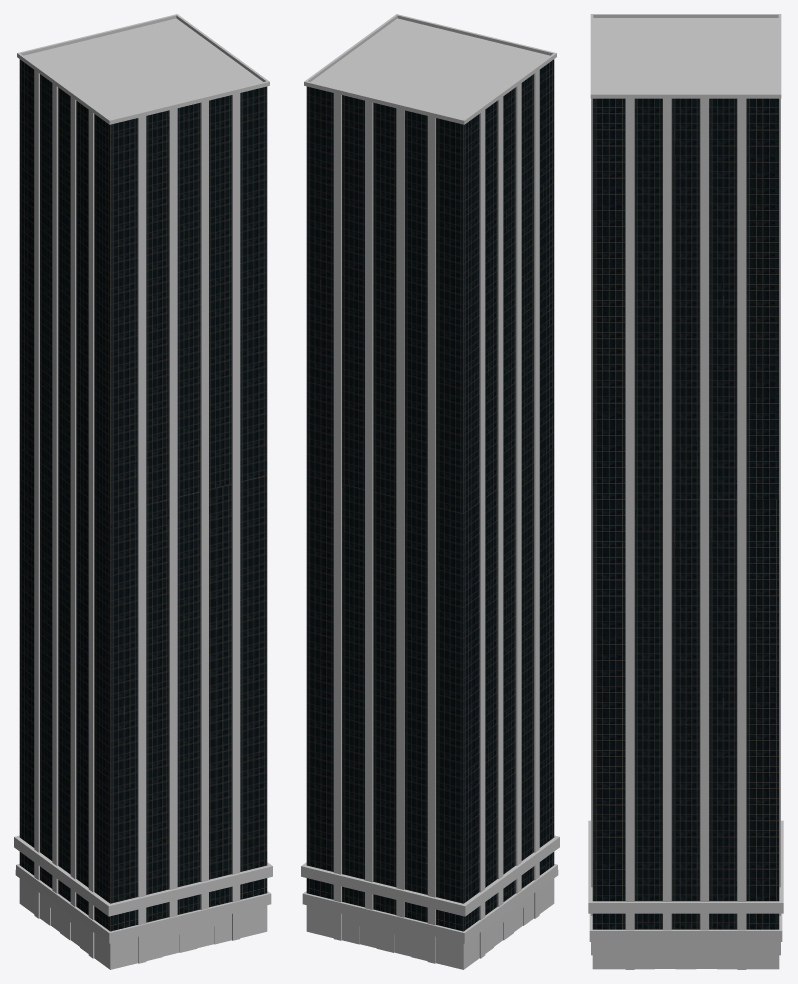
The picture shows the model from 3 angles, left to right: view 1: azimuth 30°, elevation 25°; view 2: azimuth 150°, elevation 25°; view 3: azimuth 270°, elevation 25°; orthographic projection. The views are drawn at different scales.
Visible parts, largest first — view 1: BC-090; view 2: BC-090; view 3: BC-090.
Part boxes in pixels (<box>): BC-090: <box>14,14,272,969</box>; BC-090: <box>301,14,559,969</box>; BC-090: <box>588,14,783,969</box>.
Size of what is drawn, in the model's own units: 24.67 by 122 by 24.67.
